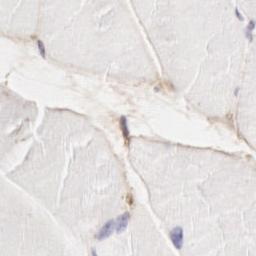nucleus: (95, 217, 114, 242), (168, 226, 184, 250), (114, 213, 129, 232), (245, 21, 254, 38), (119, 115, 127, 134), (235, 7, 245, 21), (38, 41, 45, 60)
positive_cell: (117, 112, 131, 144)
